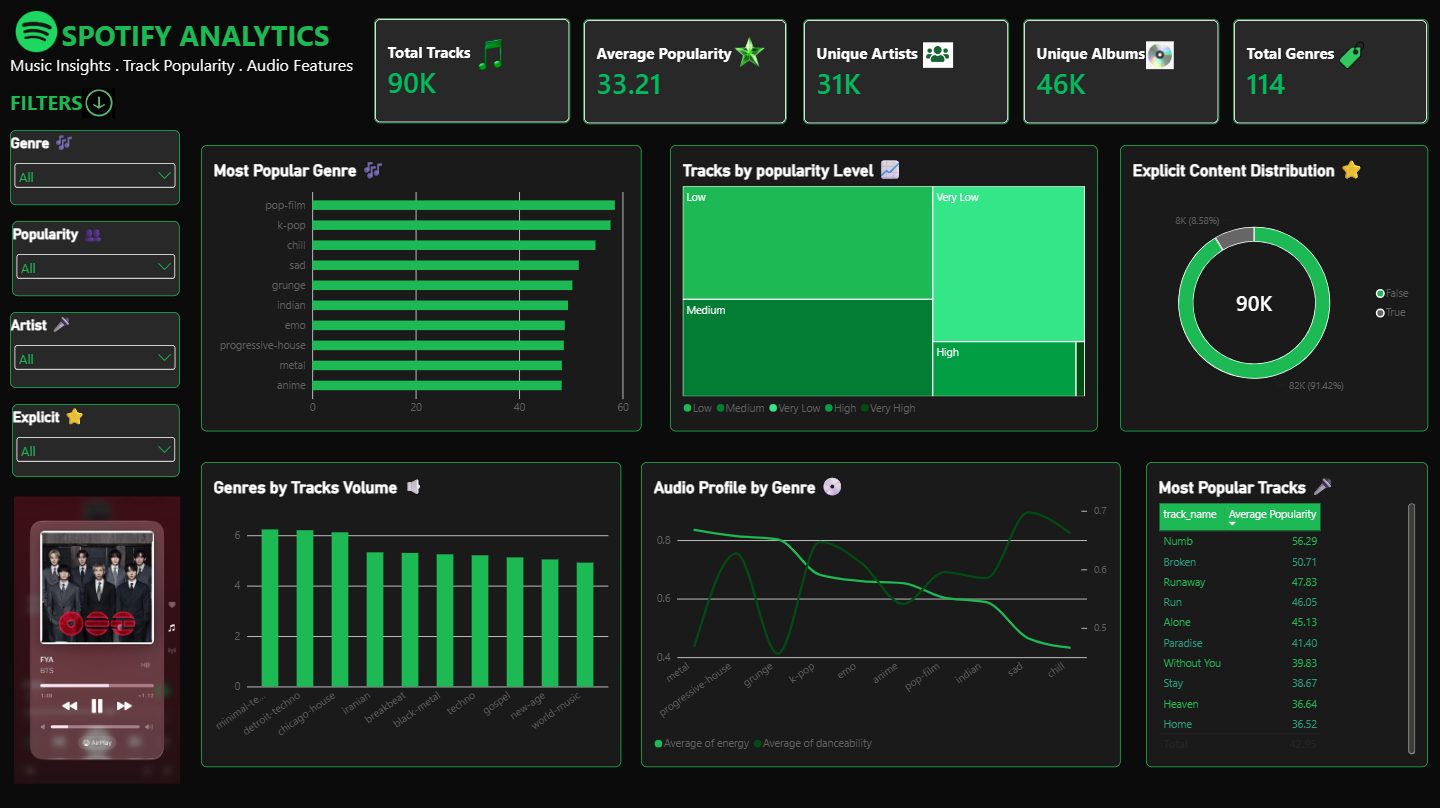

The page's visual inventory and layout, read from the dashboard file:
{"tool":"powerbi","page":{"name":"Page 1","canvas":[1920,1080],"ordinal":0},"visuals":[{"type":"cardVisual","fields":{"Data":["spotify_tracks_final.Total Tracks"]},"box":[497.1,27.1,261.2,140.1],"z":0},{"type":"cardVisual","fields":{"Data":["spotify_tracks_final.Average Popularity"]},"box":[775.7,28.6,271.4,140.1],"z":1000},{"type":"cardVisual","fields":{"Data":["spotify_tracks_final.Unique Artists"]},"box":[1068.6,28.6,274.3,140.1],"z":2000},{"type":"cardVisual","fields":{"Data":["spotify_tracks_final.Unique Albums"]},"box":[1360,28.6,261.2,140.1],"z":3000},{"type":"cardVisual","fields":{"Data":["spotify_tracks_final.Total Genres"]},"box":[1640,28.6,259.7,140.1],"z":4000},{"type":"clusteredBarChart","title":"Most Popular Genre 🎶","fields":{"Category":["spotify_tracks_final.track_genre"],"Y":["spotify_tracks_final.Average Popularity"]},"box":[267.1,195.7,585.7,381.4],"z":5000},{"type":"treemap","title":"Tracks by popularity Level 📈","fields":{"Group":["spotify_tracks_final.popularity_category"],"Values":["spotify_tracks_final.Total Tracks"]},"box":[891.4,195.7,568.6,381.4],"z":6000},{"type":"donutChart","title":"Explicit Content Distribution ⭐","fields":{"Category":["spotify_tracks_final.explicit"],"Y":["spotify_tracks_final.Total Tracks"]},"box":[1490,195.7,410,381.4],"z":7000},{"type":"tableEx","title":"Most Popular Tracks 🎤","fields":{"Values":["spotify_tracks_final.track_name","spotify_tracks_final.Average Popularity"]},"box":[1524.2,617.1,375.1,405.7],"z":8000},{"type":"columnChart","title":"Genres by Tracks Volume 🔈","fields":{"Category":["spotify_tracks_final.track_genre"],"Y":["Avg(spotify_tracks_final.duration_minutes)"]},"box":[267.3,617.1,558.6,405.7],"z":9000},{"type":"lineChart","title":"Audio Profile by Genre 💿","fields":{"Category":["spotify_tracks_final.track_genre"],"Y":["Avg(spotify_tracks_final.energy)"],"Y2":["Avg(spotify_tracks_final.danceability)"]},"box":[852.6,617.1,638.4,405.7],"z":10000},{"type":"textbox","box":[0,17.3,478.8,102.4],"z":11000},{"type":"textbox","box":[13.3,74.5,484.1,45.2],"z":12000},{"type":"slicer","title":"Genre 🎶","fields":{"Values":["spotify_tracks_final.track_genre"]},"box":[13.3,175.6,226.1,99.8],"z":13000},{"type":"slicer","title":"Popularity 👥","fields":{"Values":["spotify_tracks_final.popularity_category"]},"box":[16,296.6,223.4,99.8],"z":14000},{"type":"slicer","title":"Artist 🎤","fields":{"Values":["spotify_tracks_final.artists"]},"box":[13.3,417.6,226.1,101.1],"z":15000},{"type":"slicer","title":"Explicit ⭐","fields":{"Values":["spotify_tracks_final.explicit"]},"box":[16,540,223.4,97.1],"z":16000},{"type":"textbox","box":[13.3,119.7,191.5,39.9],"z":17000},{"type":"image","box":[16,17.3,65.2,57.2],"z":18000},{"type":"image","box":[627.1,50,51.9,50.5],"z":19000},{"type":"image","box":[972.9,38.6,49.2,66.5],"z":20000},{"type":"image","box":[1227.1,28.6,39.9,95.8],"z":21000},{"type":"image","box":[1524.3,18.6,37.2,114.4],"z":22000},{"type":"image","box":[1780,52.9,35.9,46.6],"z":23000},{"type":"image","box":[109.1,103.7,43.9,71.8],"z":24000},{"type":"image","box":[18.6,661,220.8,385.7],"z":24001}]}

Visuals, with their boxes in screenshot pixels (x1, y1, x2, y2), scaled from the page's 1920x1080 canvas onto the 1440x808 screenshot:
cardVisual - spotify_tracks_final.Total Tracks: [373,20,569,125]
cardVisual - spotify_tracks_final.Average Popularity: [582,21,785,126]
cardVisual - spotify_tracks_final.Unique Artists: [801,21,1007,126]
cardVisual - spotify_tracks_final.Unique Albums: [1020,21,1216,126]
cardVisual - spotify_tracks_final.Total Genres: [1230,21,1425,126]
"Most Popular Genre 🎶" clusteredBarChart: [200,146,640,432]
"Tracks by popularity Level 📈" treemap: [669,146,1095,432]
"Explicit Content Distribution ⭐" donutChart: [1118,146,1425,432]
"Most Popular Tracks 🎤" tableEx: [1143,462,1424,765]
"Genres by Tracks Volume 🔈" columnChart: [200,462,619,765]
"Audio Profile by Genre 💿" lineChart: [639,462,1118,765]
textbox: [0,13,359,90]
textbox: [10,56,373,90]
"Genre 🎶" slicer: [10,131,180,206]
"Popularity 👥" slicer: [12,222,180,297]
"Artist 🎤" slicer: [10,312,180,388]
"Explicit ⭐" slicer: [12,404,180,477]
textbox: [10,90,154,119]
image: [12,13,61,56]
image: [470,37,509,75]
image: [730,29,767,79]
image: [920,21,950,93]
image: [1143,14,1171,100]
image: [1335,40,1362,74]
image: [82,78,115,131]
image: [14,495,180,783]
